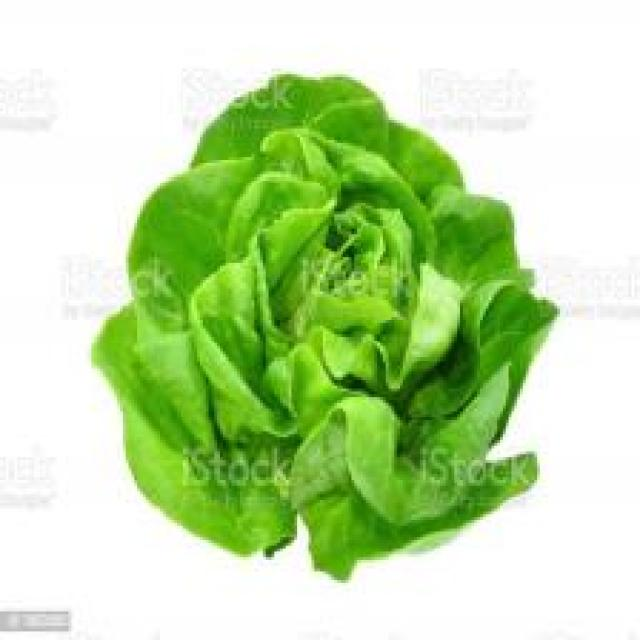Lettuce: (100, 76, 561, 578)
